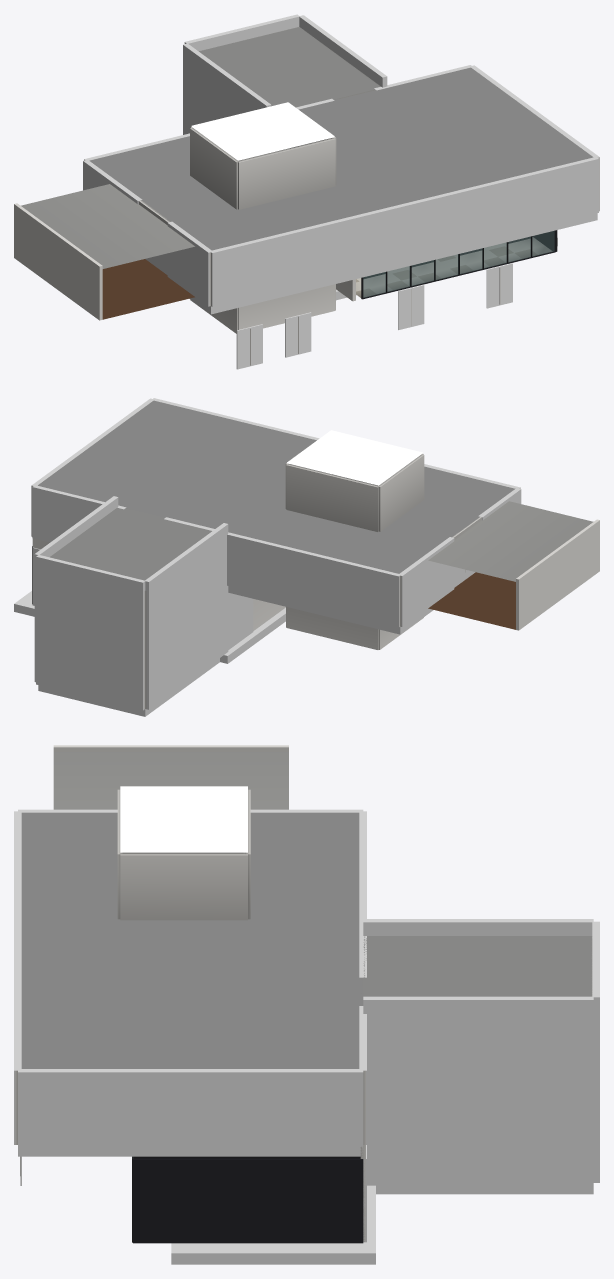
File: zone_04_corridor.glb
3 renders of one model, top to bottom at view 1: azimuth 30°, elevation 25°; view 2: azimuth 150°, elevation 25°; view 3: azimuth 270°, elevation 25°, orthographic. The views are drawn at different scales.
Parts seen in each view (by area): view 1: ENV_tang_tren, COL_tren_tuong_nam, ENV_cau_thang, ENV_tang_tret, COL_thang_tuong_tay, COL_san_tren, COL_tren_tuong_tay_nam, COL_thang_tuong_bac, COL_thang_tuong_dong, COL_tren_tuong_tay_bac, COL_tren_tuong_dong, COL_tren_tuong_bac_trai; view 2: ENV_tang_tren, COL_thang_tuong_bac, COL_thang_tuong_tay, COL_tren_tuong_bac_trai, ENV_cau_thang, COL_tren_tuong_tay_bac, COL_tren_tuong_bac_phai, COL_san_tren, COL_thang_tuong_dong, COL_san_tret, COL_dau_hanh_lang_tay, COL_san_sanh_thang (+3 smaller); view 3: ENV_tang_tren, COL_thang_tuong_dong, COL_tren_tuong_dong, ENV_tang_tret, ENV_cau_thang, COL_san_tret, COL_thang_tuong_tay, COL_san_tren, COL_tren_tuong_nam, COL_san_sanh_thang, COL_thang_tuong_bac, COL_tren_tuong_bac_trai.
Boxes of the visible parts, x1,y1,x2,y2 form: ENV_tang_tren: (14, 67, 599, 369); COL_tren_tuong_nam: (211, 157, 598, 306); ENV_cau_thang: (199, 27, 380, 107); ENV_tang_tret: (336, 230, 557, 301); COL_thang_tuong_tay: (183, 43, 271, 134); COL_san_tren: (189, 213, 597, 314); COL_tren_tuong_tay_nam: (167, 221, 212, 306); COL_thang_tuong_bac: (184, 14, 299, 51); COL_thang_tuong_dong: (299, 15, 387, 87); COL_tren_tuong_tay_bac: (83, 159, 142, 204); COL_tren_tuong_dong: (471, 65, 599, 211); COL_tren_tuong_bac_trai: (84, 98, 334, 160); ENV_tang_tren: (32, 400, 599, 649); COL_thang_tuong_bac: (36, 555, 145, 710); COL_thang_tuong_tay: (145, 523, 228, 709); COL_tren_tuong_bac_trai: (164, 517, 399, 627); ENV_cau_thang: (50, 508, 211, 709); COL_tren_tuong_tay_bac: (398, 537, 454, 626); COL_tren_tuong_bac_phai: (32, 485, 126, 542); COL_san_tren: (228, 586, 433, 634); COL_thang_tuong_dong: (34, 496, 118, 682); COL_san_tret: (14, 591, 285, 663); COL_dau_hanh_lang_tay: (228, 593, 253, 649); COL_san_sanh_thang: (38, 658, 219, 716); ENV_tang_tren: (15, 745, 365, 1185); COL_thang_tuong_dong: (363, 996, 593, 1185); COL_tren_tuong_dong: (18, 1069, 363, 1146); ENV_tang_tret: (132, 1145, 365, 1243); ENV_cau_thang: (363, 936, 592, 996); COL_san_tret: (171, 1185, 375, 1264); COL_thang_tuong_tay: (363, 919, 593, 935); COL_san_tren: (18, 1146, 363, 1156); COL_tren_tuong_nam: (14, 811, 21, 1144); COL_san_sanh_thang: (376, 1185, 593, 1194); COL_thang_tuong_bac: (592, 921, 599, 1182); COL_tren_tuong_bac_trai: (359, 811, 366, 977).
Size of the model in its own units: 31.1 by 10.83 by 22.9.
